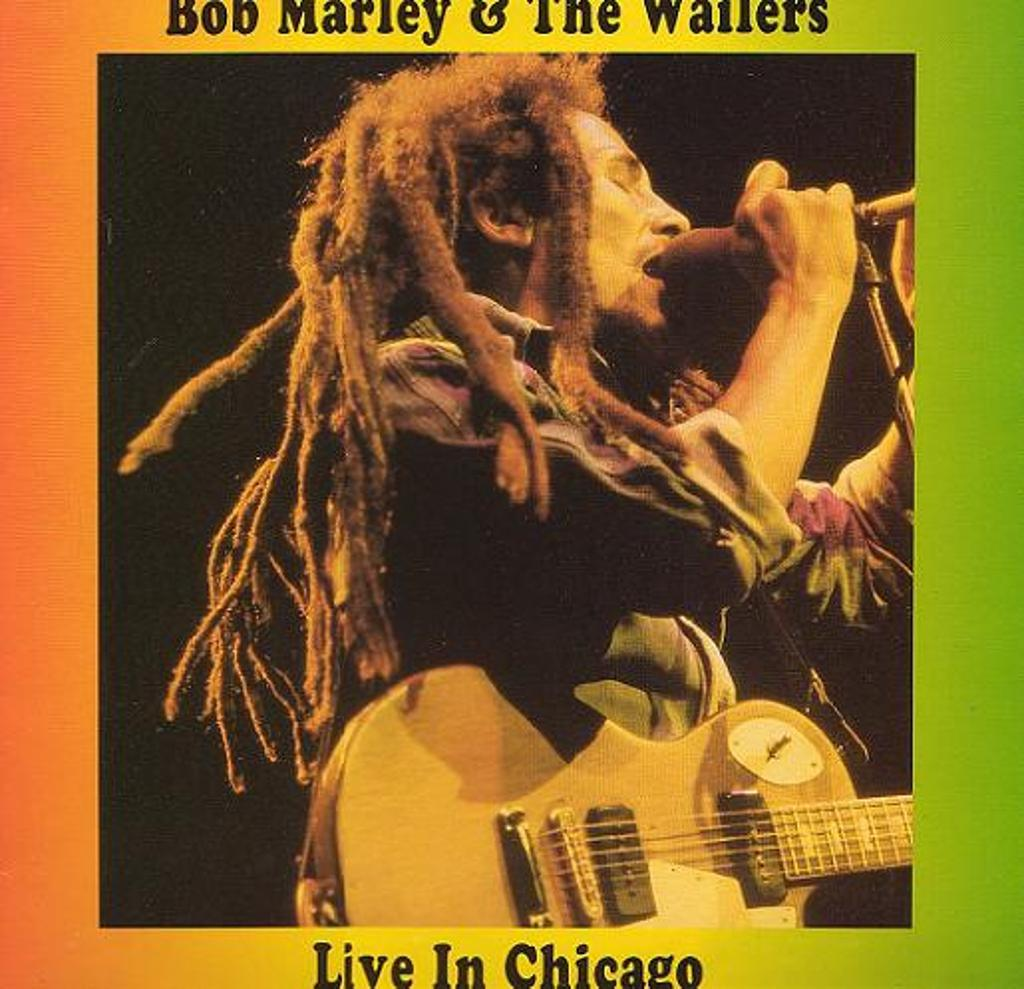face: (539, 99, 697, 345)
